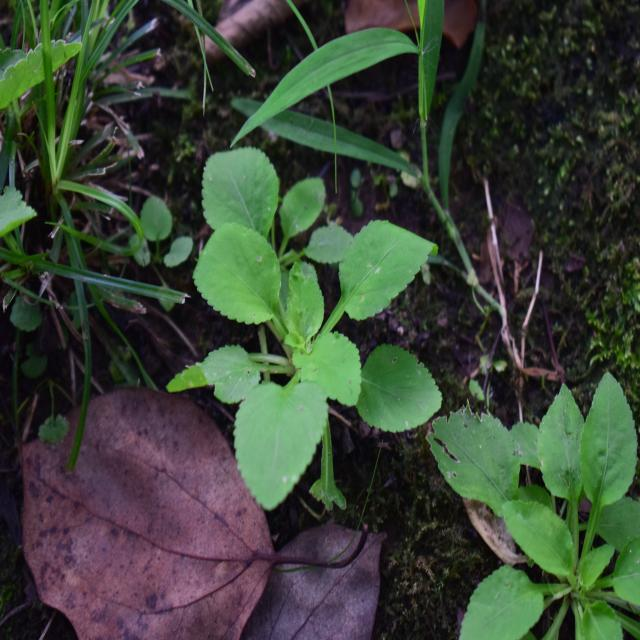Viola: (195, 160, 431, 502)
